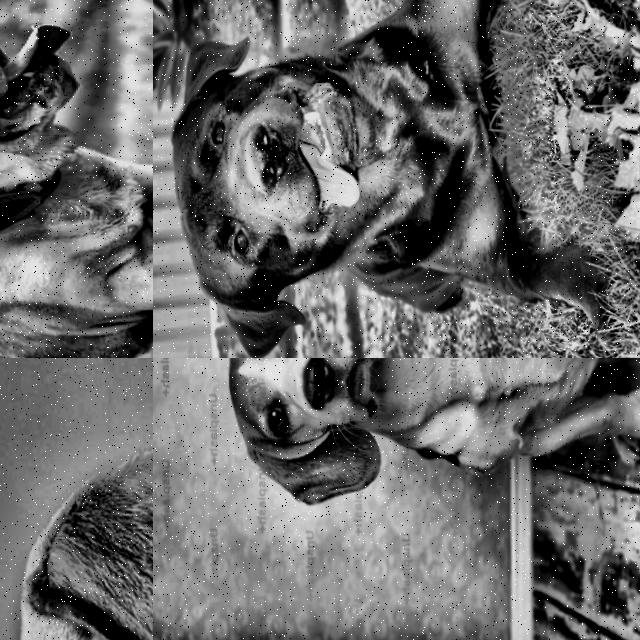beagle: (192, 358, 435, 525), (0, 403, 153, 640)
bulldog: (0, 0, 108, 246)
rottweiler: (153, 0, 421, 358)
